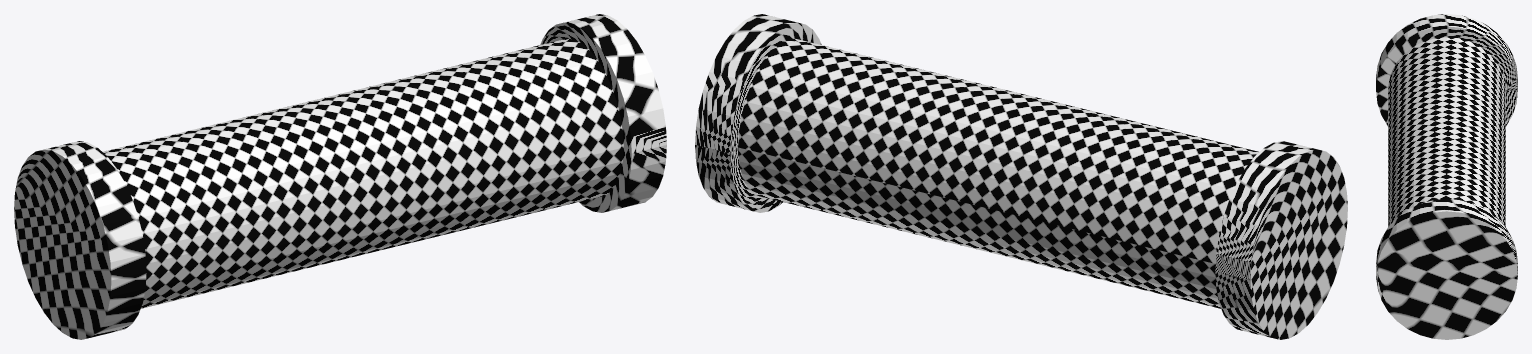
Rendered from grip.obj.
3 renders of one model, left to right at view 1: azimuth 30°, elevation 25°; view 2: azimuth 150°, elevation 25°; view 3: azimuth 270°, elevation 25°, orthographic. The views are drawn at different scales.
Bounding box in the file's own units: 79 × 24 × 24.
